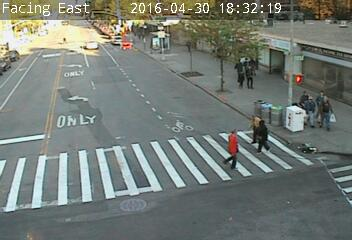neg: (42, 35, 70, 72), (111, 54, 133, 83), (211, 7, 232, 35), (179, 32, 199, 58)
pos: (216, 127, 248, 170), (319, 94, 347, 132), (253, 117, 281, 154)
